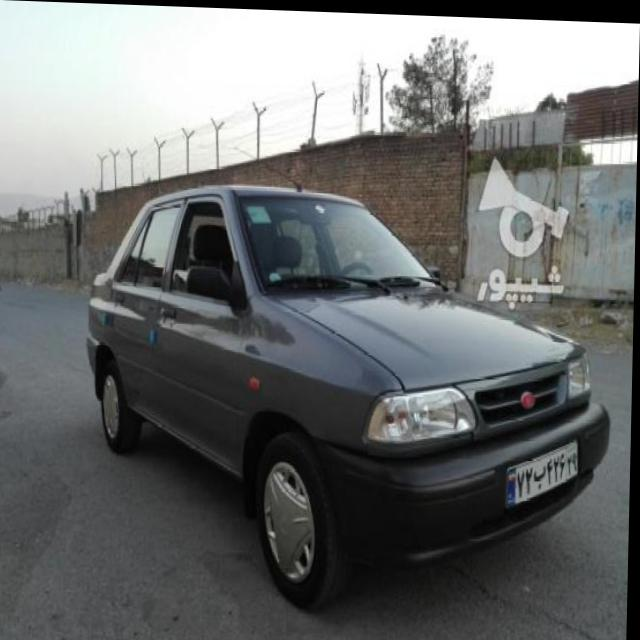licence: (505, 430, 583, 507)
